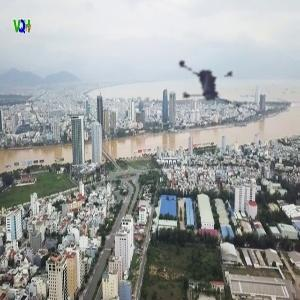drone: (152, 40, 248, 136)
